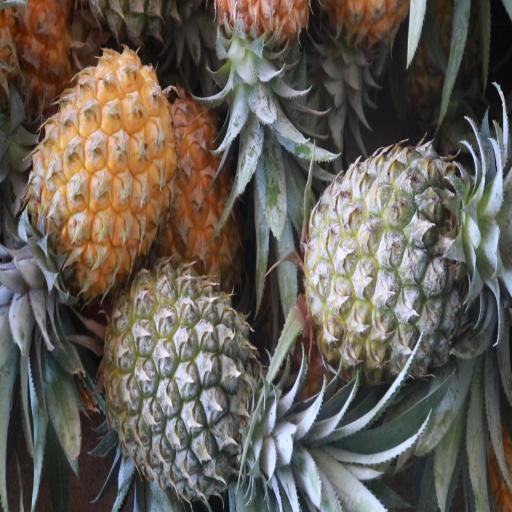Pineapple - v8 v1: (30, 54, 177, 299), (168, 103, 252, 300)
